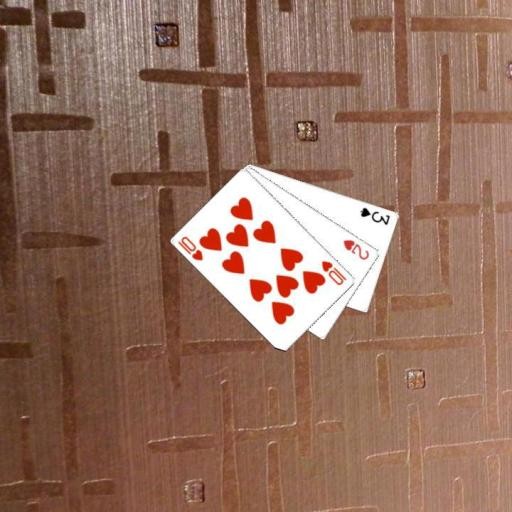10H: (319, 258, 349, 287), (175, 234, 205, 263)
2H: (340, 236, 371, 262)
3S: (357, 204, 392, 226)
